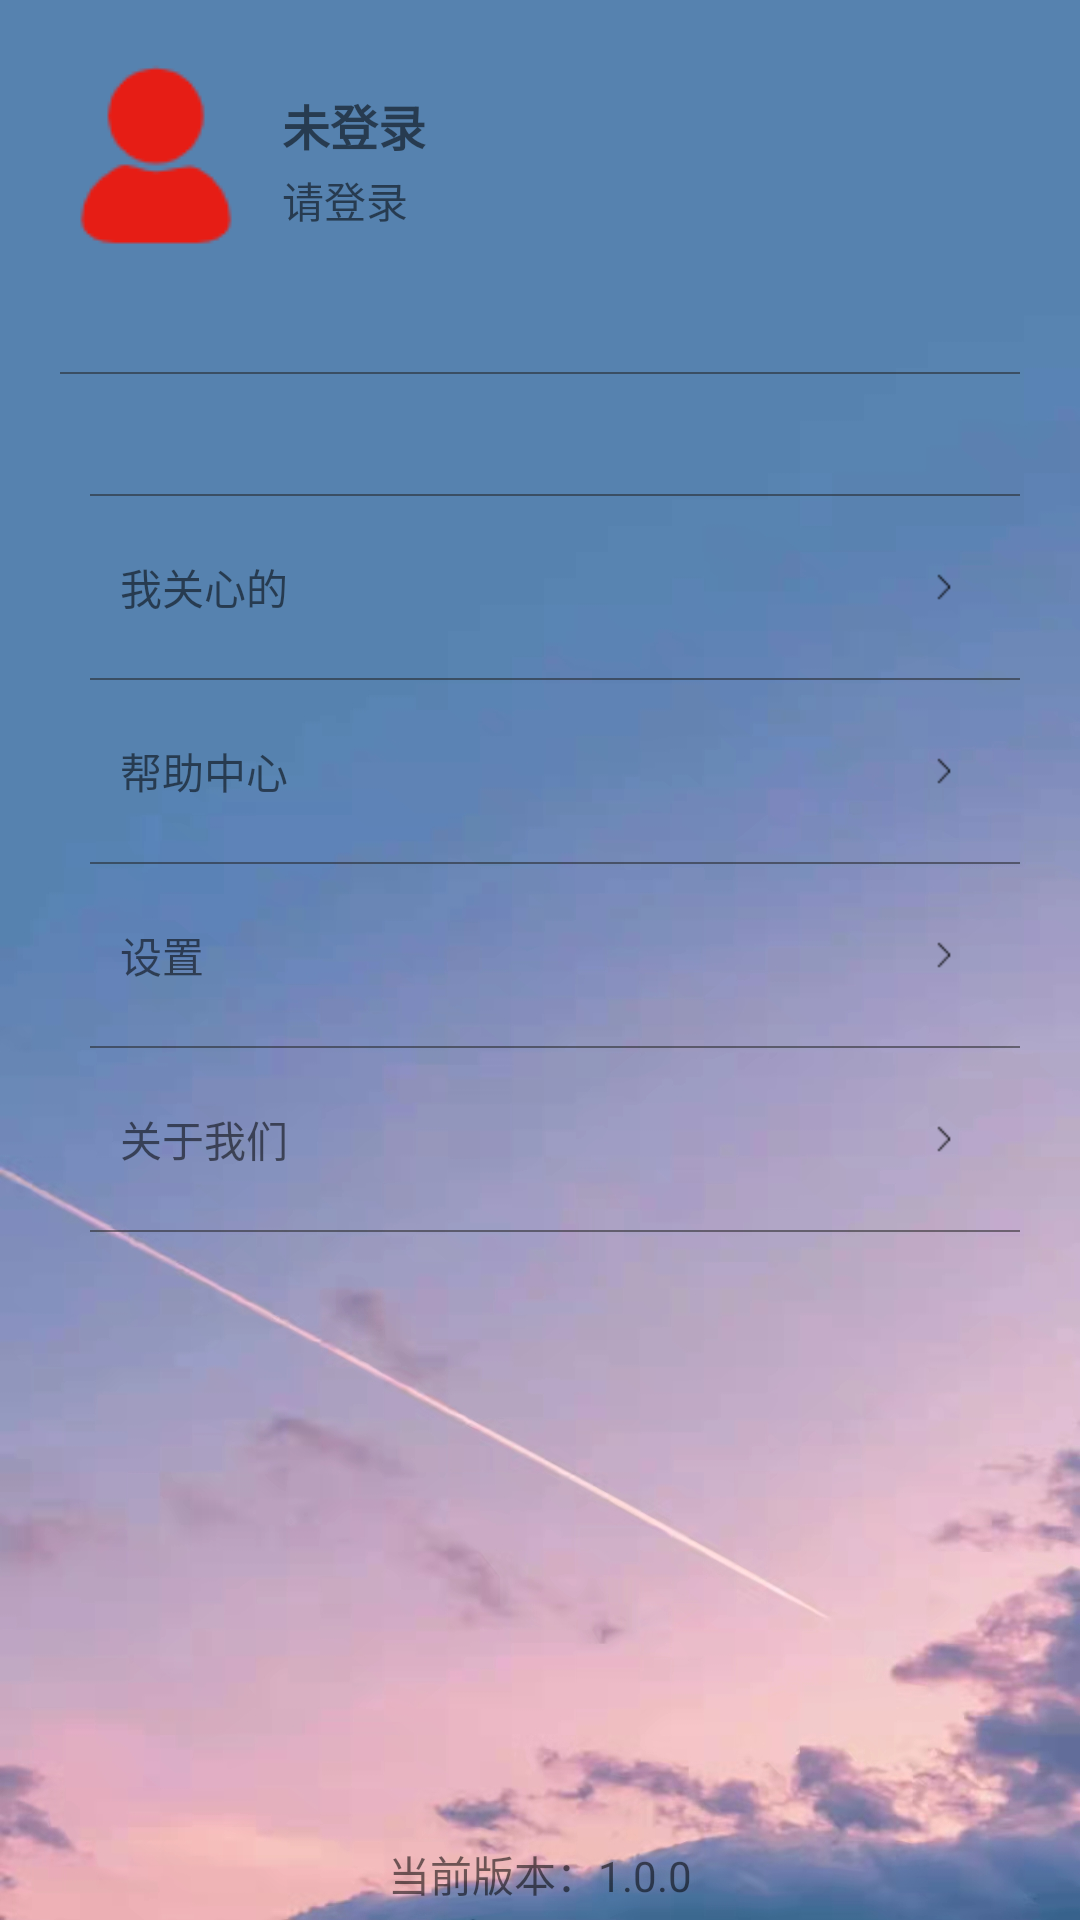

Icons on this 1080*1920 Android screen, each with the point to tap as (x=x, y=y):
user: (x=156, y=155)
